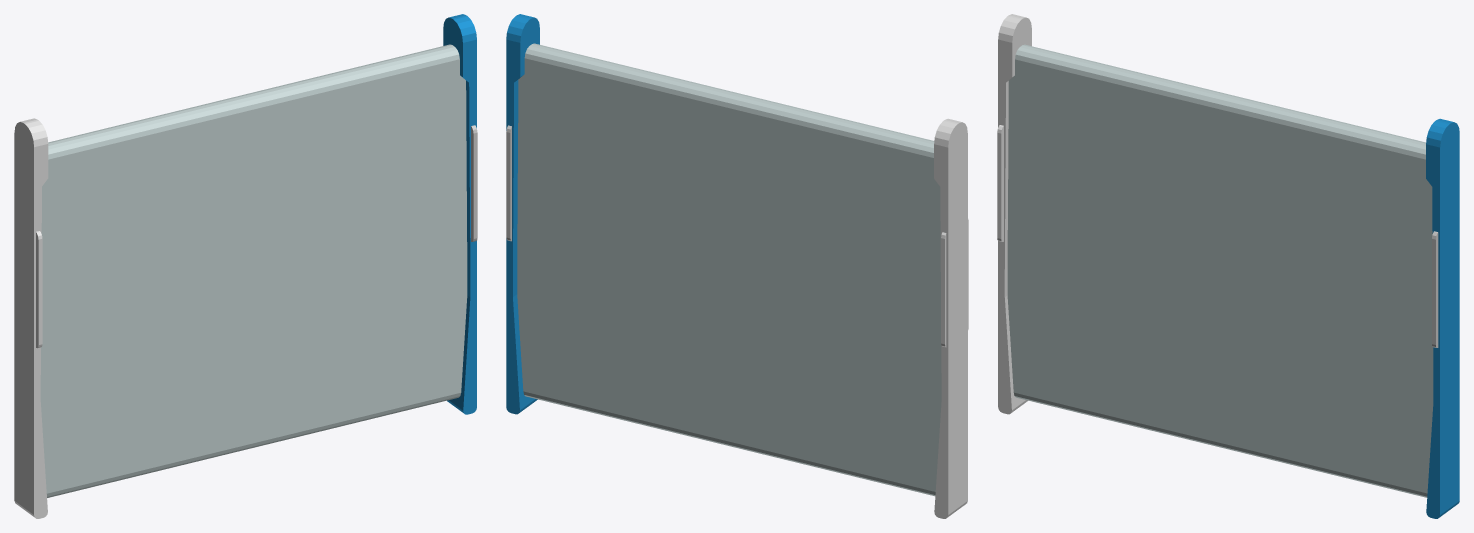
The model's file is portail.fbx.
3 views of the same model, side by side, from view 1: azimuth 30°, elevation 25°; view 2: azimuth 150°, elevation 25°; view 3: azimuth 330°, elevation 25° (orthographic).
Parts seen in each view (by area): view 1: Cube.001, Cube, Cube.002, Cube.003, Cube.004; view 2: Cube.001, Cube, Cube.002, Cube.003, Cube.004; view 3: Cube.001, Cube.002, Cube, Cube.004, Cube.003.
Boxes of the visible parts, bbox=[...] form: Cube.001: bbox=[40, 44, 467, 497]; Cube: bbox=[14, 118, 48, 518]; Cube.002: bbox=[443, 14, 476, 414]; Cube.003: bbox=[36, 231, 42, 348]; Cube.004: bbox=[471, 125, 477, 241]; Cube.001: bbox=[517, 43, 941, 496]; Cube: bbox=[934, 118, 967, 518]; Cube.002: bbox=[506, 14, 539, 414]; Cube.003: bbox=[941, 219, 968, 347]; Cube.004: bbox=[506, 125, 511, 241]; Cube.001: bbox=[1007, 44, 1433, 497]; Cube.002: bbox=[1426, 118, 1459, 518]; Cube: bbox=[998, 14, 1031, 414]; Cube.004: bbox=[1432, 231, 1438, 347]; Cube.003: bbox=[997, 125, 1003, 241].
Bounding box in the file's own units: 796 × 669 × 74.07.
